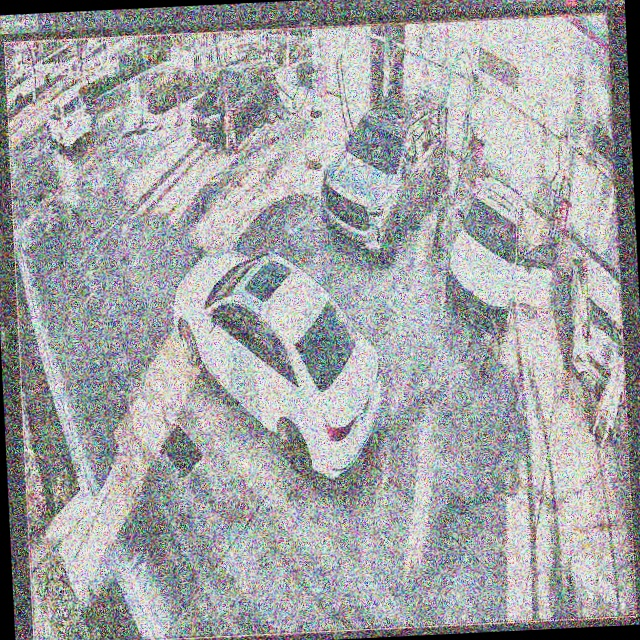Car: (170, 241, 385, 489), (315, 93, 451, 265), (439, 175, 556, 338), (190, 59, 284, 155)
